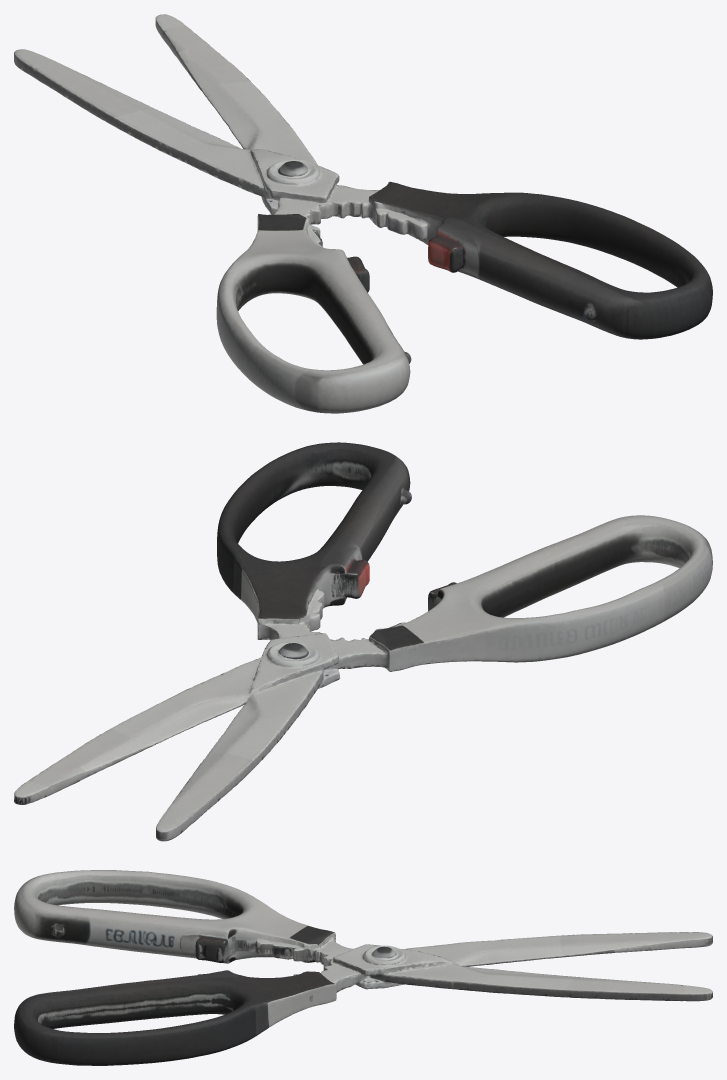
The model's file is Scissors.fbx.
3 views of the same model, one above another, from view 1: azimuth 30°, elevation 25°; view 2: azimuth 150°, elevation 25°; view 3: azimuth 270°, elevation 25° (orthographic). The views are drawn at different scales.
Parts seen in each view (by area): view 1: texture_mapping; view 2: texture_mapping; view 3: texture_mapping.
Part boxes in pixels (x1,y1,x2,y2): texture_mapping: (14,14,712,413); texture_mapping: (14,442,712,841); texture_mapping: (14,870,712,1065).
Bounding box in the file's own units: 0.5738 × 0.9986 × 0.0569.
Materials: 1 (1 with a texture image).
